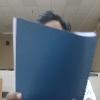notebook: (12, 16, 98, 99)
